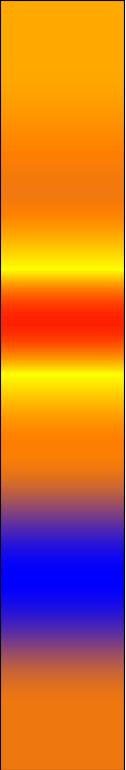Thermal Runaway: (5, 9, 118, 485)
critical: (10, 646, 112, 765), (11, 494, 113, 513)
safe: (8, 520, 119, 631)
